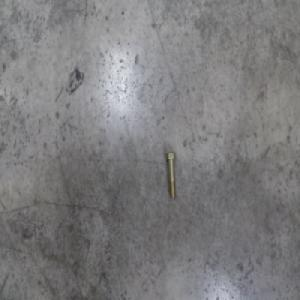Bolt: (162, 150, 175, 199)
